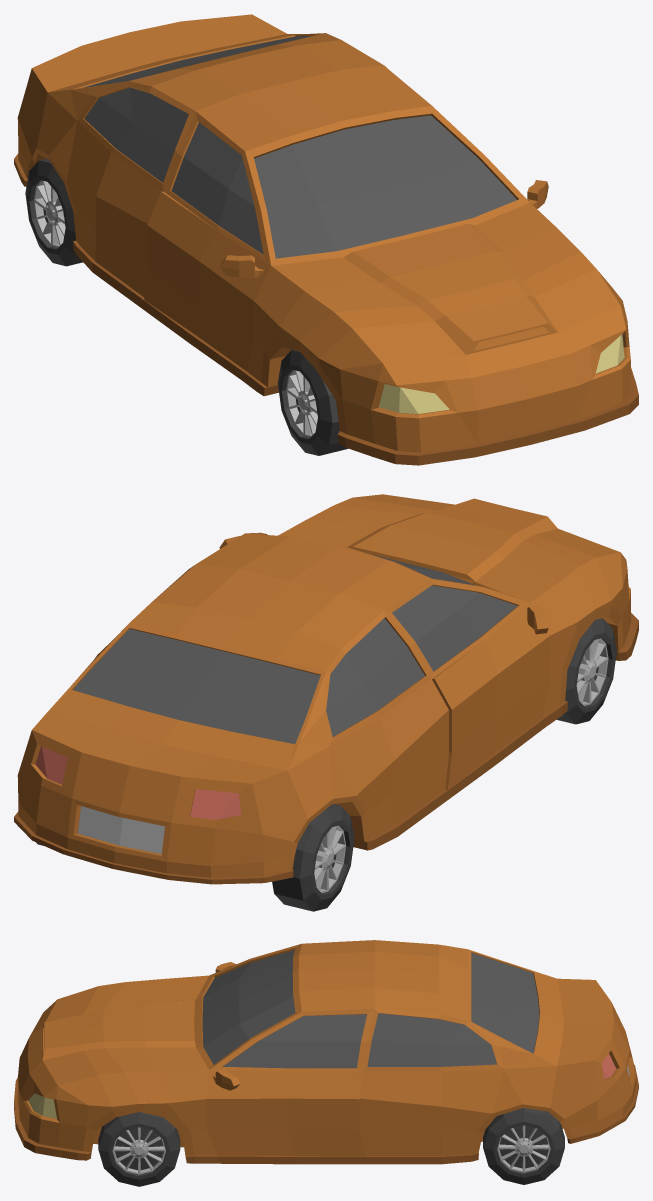
Rendered from SportsCar1.fbx.
3 renders of one model, top to bottom at view 1: azimuth 30°, elevation 25°; view 2: azimuth 150°, elevation 25°; view 3: azimuth 270°, elevation 25°, orthographic. The views are drawn at different scales.
Parts seen in each view (by area): view 1: Body, Wheels_Front, Wheels_Rear; view 2: Body, Wheels_Rear, Wheels_Front; view 3: Body, Wheels_Rear, Wheels_Front.
Part boxes in pixels (<box>): Body: <box>14,14,638,465</box>; Wheels_Front: <box>278,349,348,455</box>; Wheels_Rear: <box>25,158,82,266</box>; Body: <box>14,494,638,884</box>; Wheels_Rear: <box>36,804,354,911</box>; Wheels_Front: <box>556,618,616,724</box>; Body: <box>14,940,638,1164</box>; Wheels_Rear: <box>483,1108,564,1184</box>; Wheels_Front: <box>98,1112,180,1186</box>.
Size of the model in its own units: 1.8 by 1.16 by 3.97.
